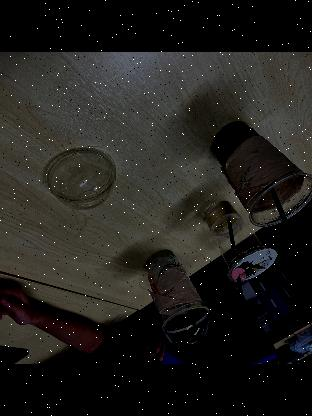Others: (215, 114, 312, 226), (202, 194, 280, 284), (37, 136, 119, 214), (144, 246, 214, 334), (267, 180, 307, 262), (164, 298, 208, 348), (226, 210, 248, 308), (186, 308, 206, 364)
